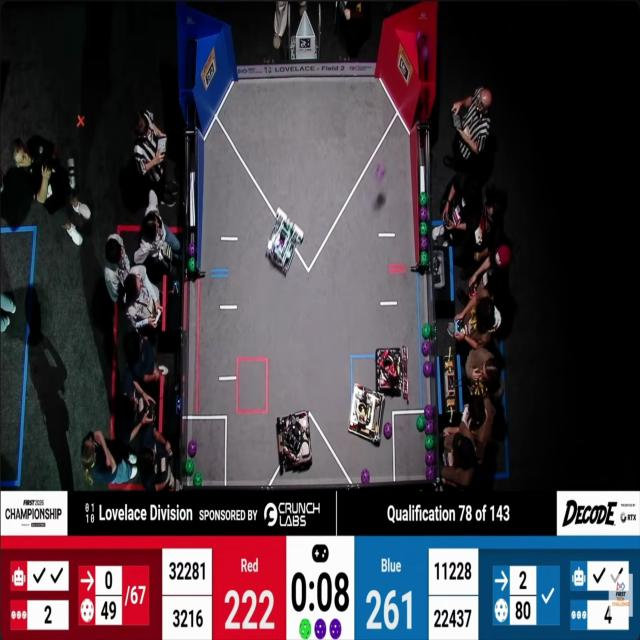artifact_green: (300, 619, 311, 639), (422, 360, 433, 377), (416, 415, 426, 432), (184, 460, 194, 476), (188, 440, 197, 457), (422, 324, 432, 339), (425, 435, 435, 450), (420, 222, 428, 236), (420, 236, 428, 250), (420, 252, 428, 266), (420, 207, 428, 221), (420, 192, 428, 206), (194, 473, 202, 486), (189, 258, 195, 271), (182, 462, 185, 473)
artifact_purple: (417, 32, 428, 62), (315, 619, 326, 639), (330, 619, 341, 639), (419, 42, 428, 62), (376, 163, 385, 182), (423, 362, 433, 378), (383, 422, 392, 439), (426, 465, 435, 481), (361, 468, 370, 484), (422, 341, 431, 356), (426, 450, 435, 465), (188, 441, 196, 457), (425, 405, 434, 419), (425, 420, 434, 433), (420, 207, 428, 221), (420, 237, 428, 251), (189, 242, 195, 257), (417, 31, 422, 44)
